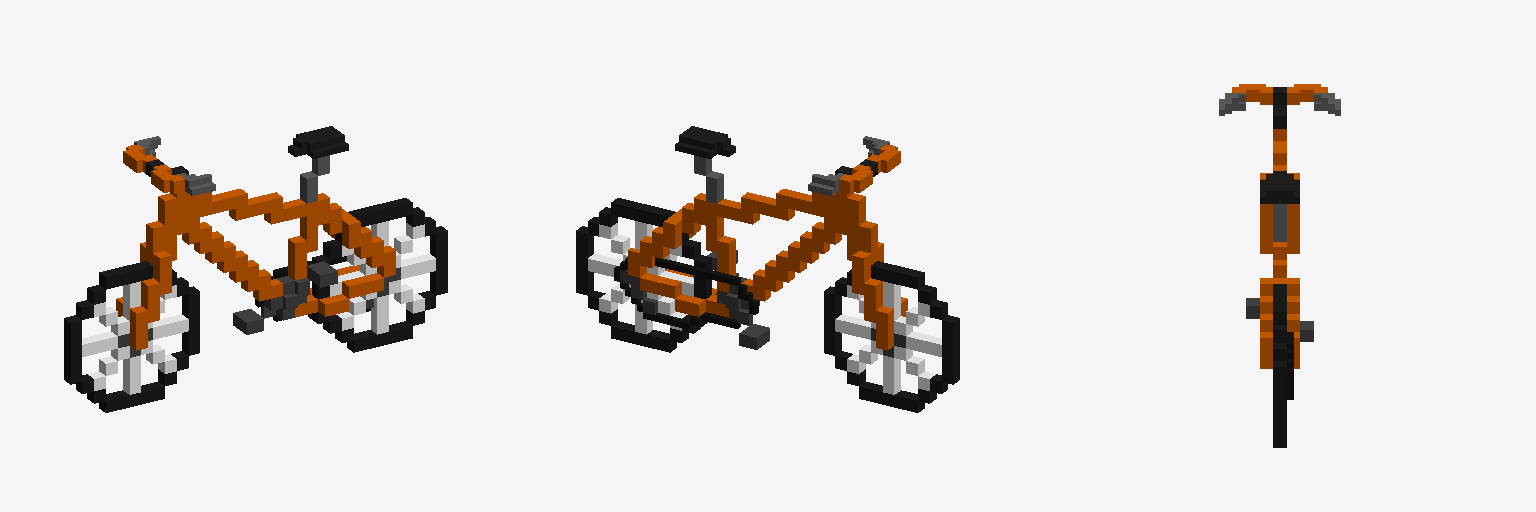
The picture shows the model from 3 angles: view 1: azimuth 30°, elevation 25°; view 2: azimuth 150°, elevation 25°; view 3: azimuth 270°, elevation 25°; orthographic projection.
Visible parts, largest first — view 1: object 1; view 2: object 1; view 3: object 1.
Boxes of the visible parts, <box> form: object 1: <box>64,126,447,412</box>; object 1: <box>576,126,959,412</box>; object 1: <box>1219,84,1340,447</box>.
Size of the model in its own units: 6.4 by 3.8 by 1.8.
Materials: 1 (1 with a texture image).